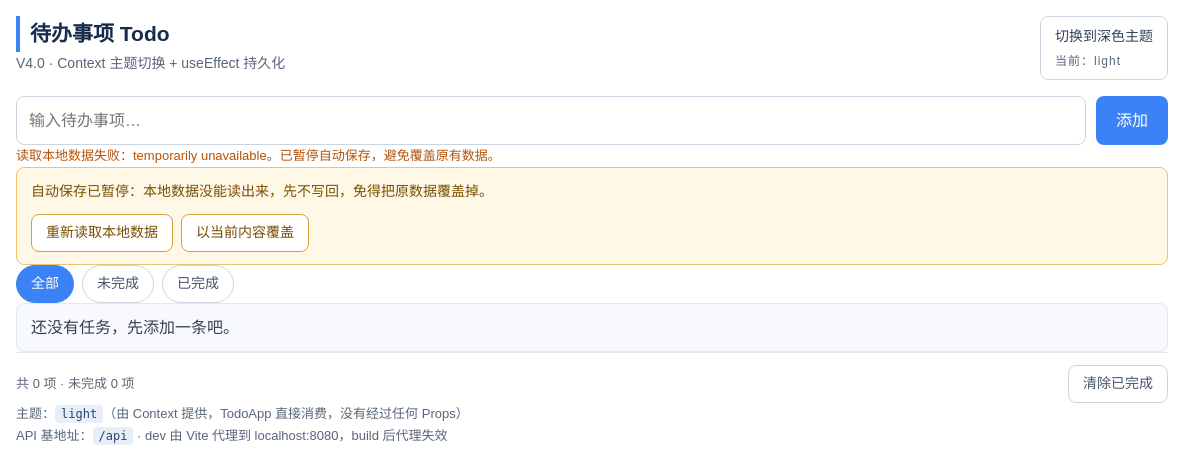
Test: 持久化6：点「重新读取本地数据」后恢复自动保存，数据回来
Check: the text "读取本地数据失败：temporarily unavailable。已暂停自动保存，避免覆盖原有数据。" is shown, box [16,148,501,163]
Click the button "重新读取本地数据". click: [102, 233]
box: [31,214,173,252]
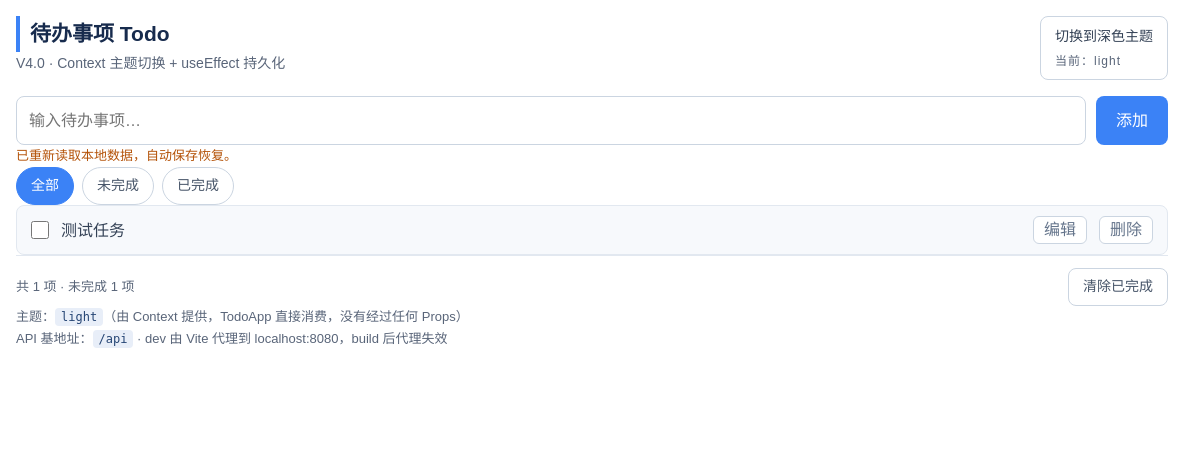
Check: the text "测试任务" is shown, box [61,222,125,239]
Check: the text "自动保存已暂停" is gone
